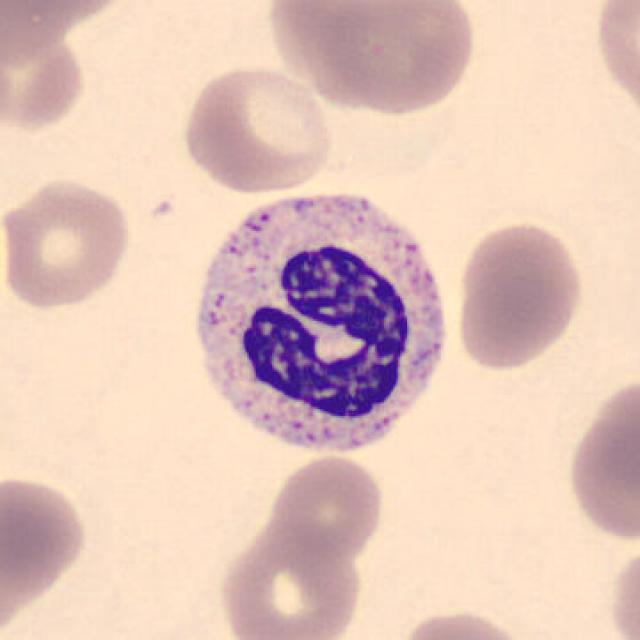Neutrophil: (178, 182, 462, 470)
RBC: (273, 0, 483, 116), (178, 61, 338, 198), (452, 217, 586, 374), (0, 173, 135, 312), (215, 522, 366, 640), (2, 545, 188, 640), (266, 451, 388, 568), (562, 368, 640, 546), (0, 469, 91, 608), (0, 9, 91, 137), (263, 0, 455, 49), (590, 0, 640, 127), (0, 0, 89, 65), (393, 606, 535, 640), (2, 0, 137, 32), (606, 534, 640, 640)
